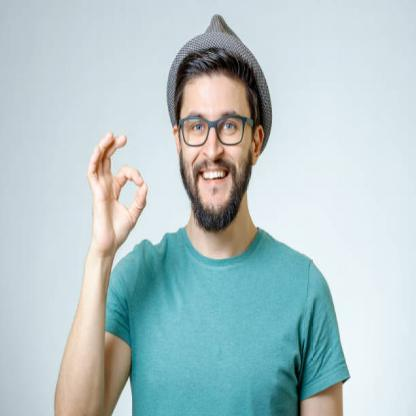ok: (86, 127, 150, 258)
